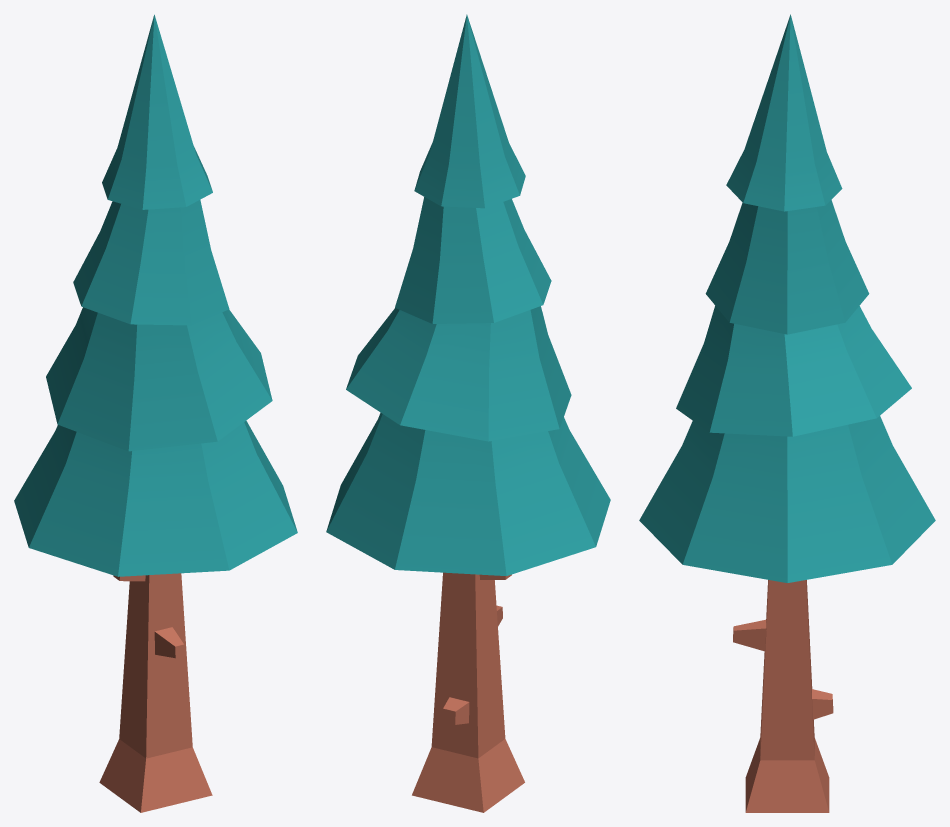
File: tree_pineDefaultB.dae
The picture shows the model from 3 angles, left to right: view 1: azimuth 30°, elevation 25°; view 2: azimuth 150°, elevation 25°; view 3: azimuth 270°, elevation 25°; orthographic projection.
Parts seen in each view (by area): view 1: tree_pineDefaultB; view 2: tree_pineDefaultB; view 3: tree_pineDefaultB.
Boxes of the visible parts, <box> form: tree_pineDefaultB: <box>14,14,297,812</box>; tree_pineDefaultB: <box>326,14,610,812</box>; tree_pineDefaultB: <box>639,14,935,812</box>.
Bounding box in the file's own units: 0.532 × 1.55 × 0.532.
